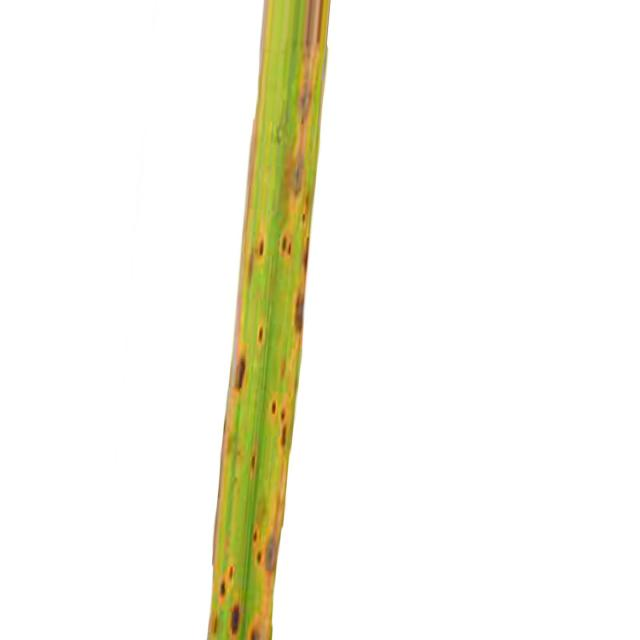Brown_Spot: (268, 391, 294, 449), (291, 79, 321, 124), (282, 156, 309, 195), (252, 536, 279, 571), (300, 219, 311, 269), (232, 356, 246, 389), (295, 289, 305, 332), (279, 231, 292, 258), (249, 445, 259, 477), (231, 605, 239, 634), (248, 625, 260, 640), (256, 324, 264, 343), (310, 169, 315, 193), (252, 524, 258, 541), (258, 239, 264, 256), (228, 566, 235, 578), (220, 581, 226, 594)
